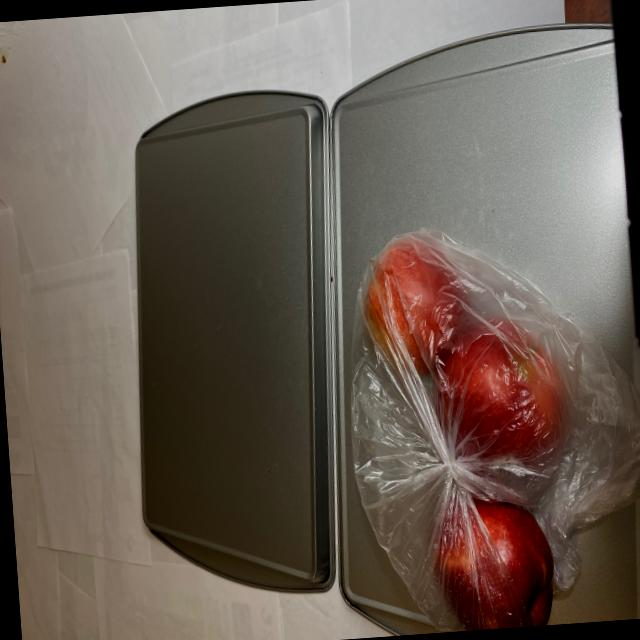apple: (356, 220, 602, 632)
